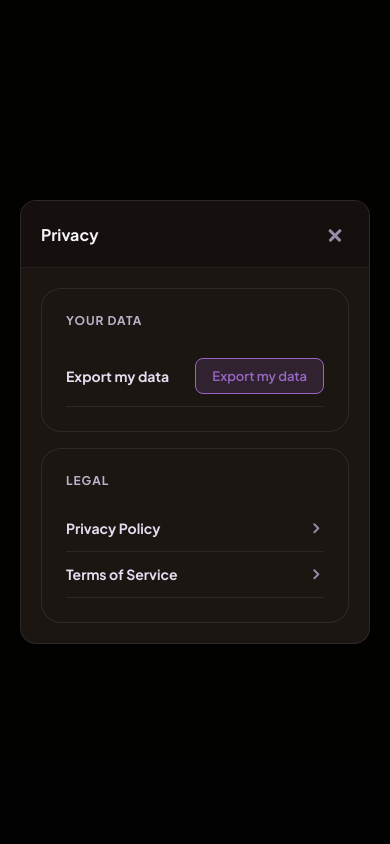
Privacy → Export my data › says so when the export fails outright
Click the button "Export my data" at [260, 376], box [195,358,324,394]
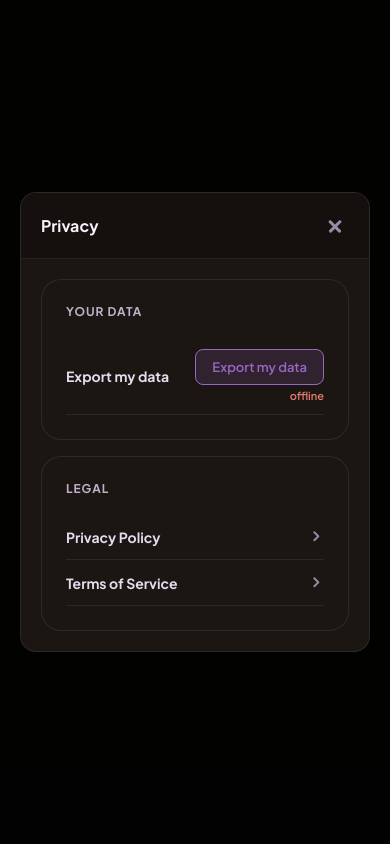
Check: the text "offline" is shown, box [290,389,324,402]
